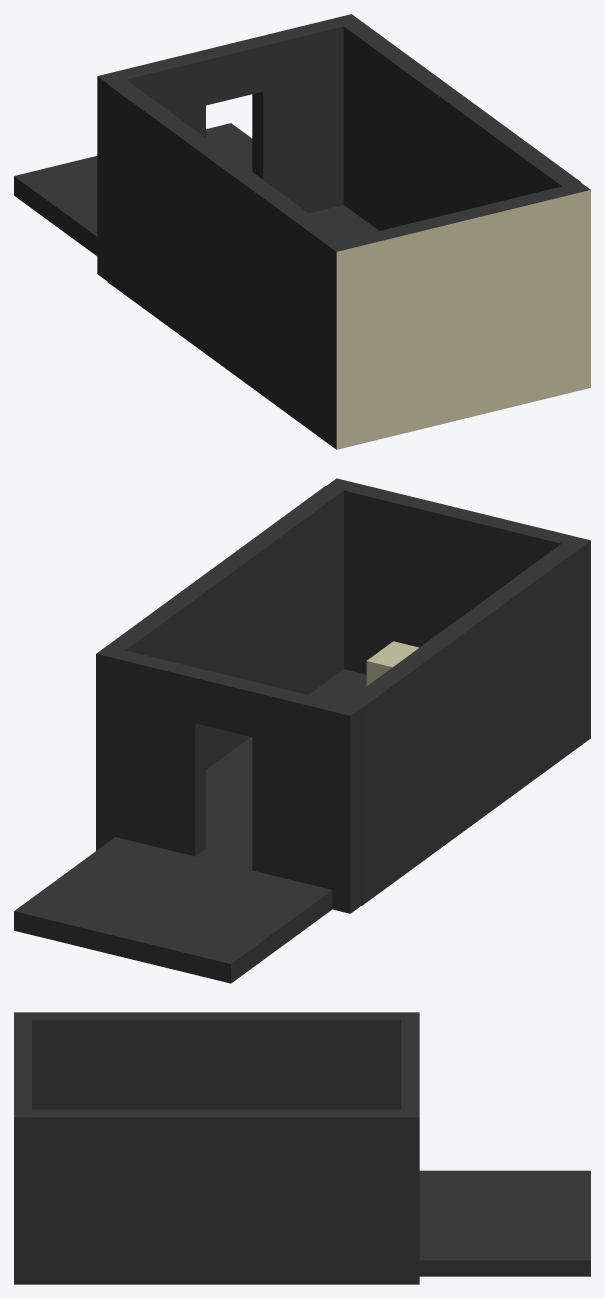
File: AtticMoBu.fbx
3 views of the same model, one above another, from view 1: azimuth 30°, elevation 25°; view 2: azimuth 150°, elevation 25°; view 3: azimuth 270°, elevation 25° (orthographic). The views are drawn at different scales.
Visible parts, largest first — view 1: Box_Brush32_StaticMesh2; view 2: Box_Brush32_StaticMesh2; view 3: Box_Brush32_StaticMesh2.
Boxes of the visible parts, x1,y1,x2,y2 form: Box_Brush32_StaticMesh2: (14,14,590,449); Box_Brush32_StaticMesh2: (14,478,590,983); Box_Brush32_StaticMesh2: (14,1012,590,1284).
Size of the model in its own units: 411 by 305 by 953.
